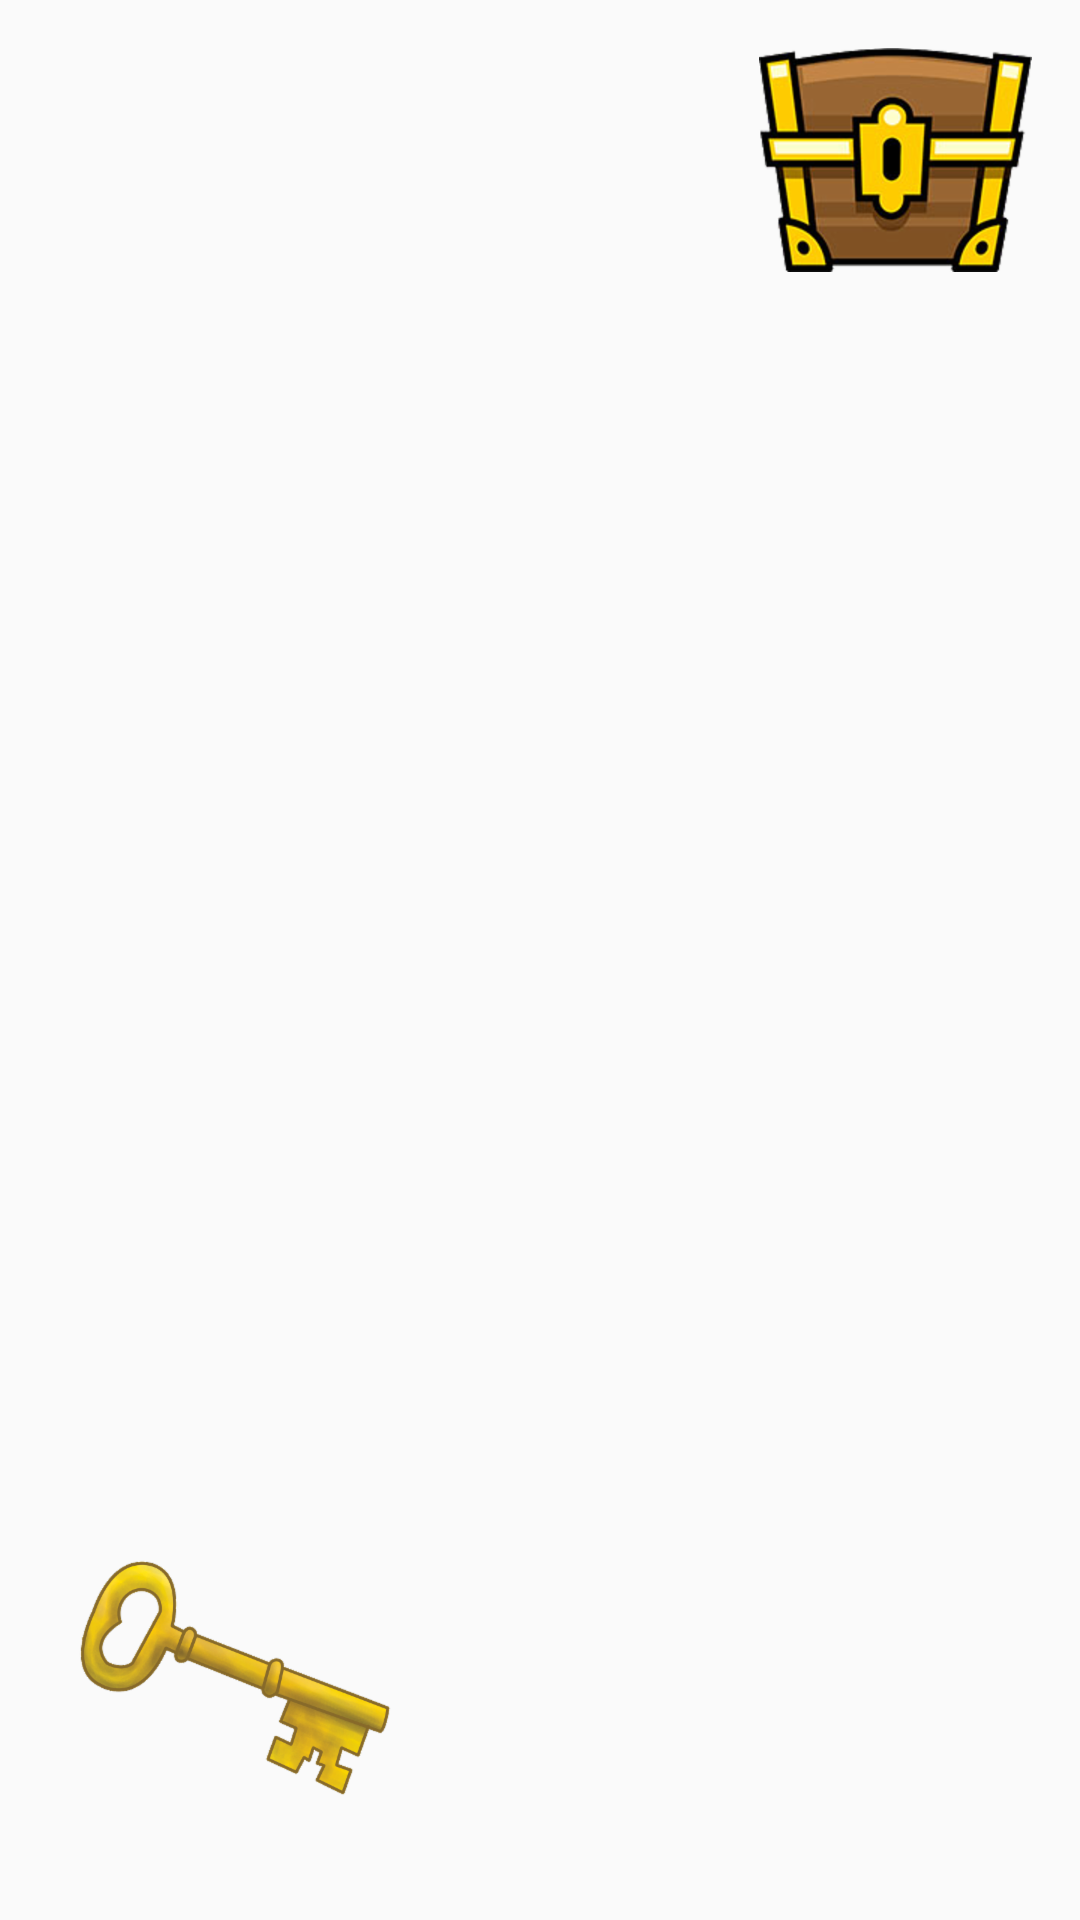

Icon click points for this 1080w x 1920h phone screenshot, format (x,y):
chestclose: (895,160)
keystepstep: (235,1678)
